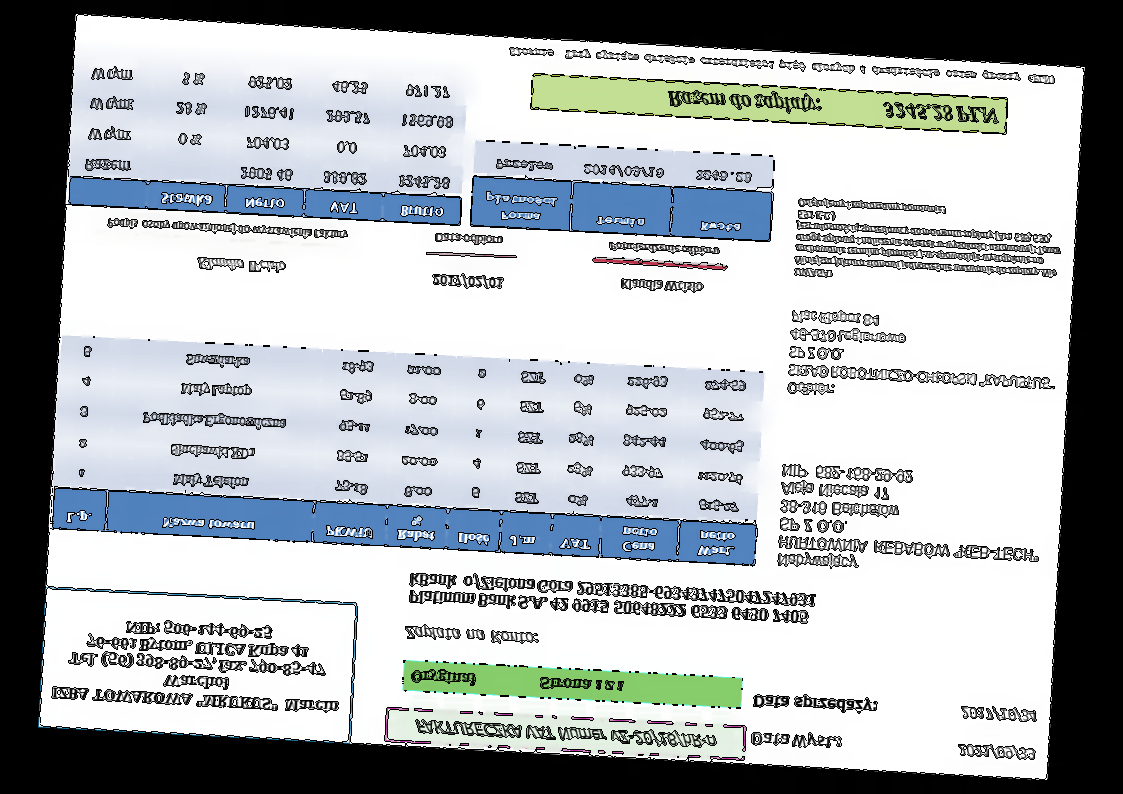Table: (50, 333, 766, 568), (66, 52, 468, 227), (468, 138, 777, 244)
TextBox: (776, 461, 1046, 583), (48, 611, 344, 718), (786, 305, 1061, 410), (791, 194, 1067, 293), (506, 44, 1058, 87), (405, 570, 818, 627), (664, 84, 1000, 127), (412, 715, 720, 752), (408, 666, 627, 699), (106, 215, 352, 243), (402, 621, 542, 650), (749, 689, 881, 718), (750, 728, 844, 753), (606, 239, 722, 259), (194, 254, 288, 278), (955, 739, 1037, 764), (958, 704, 1039, 727), (429, 270, 506, 292), (617, 276, 704, 295), (432, 231, 503, 248)
